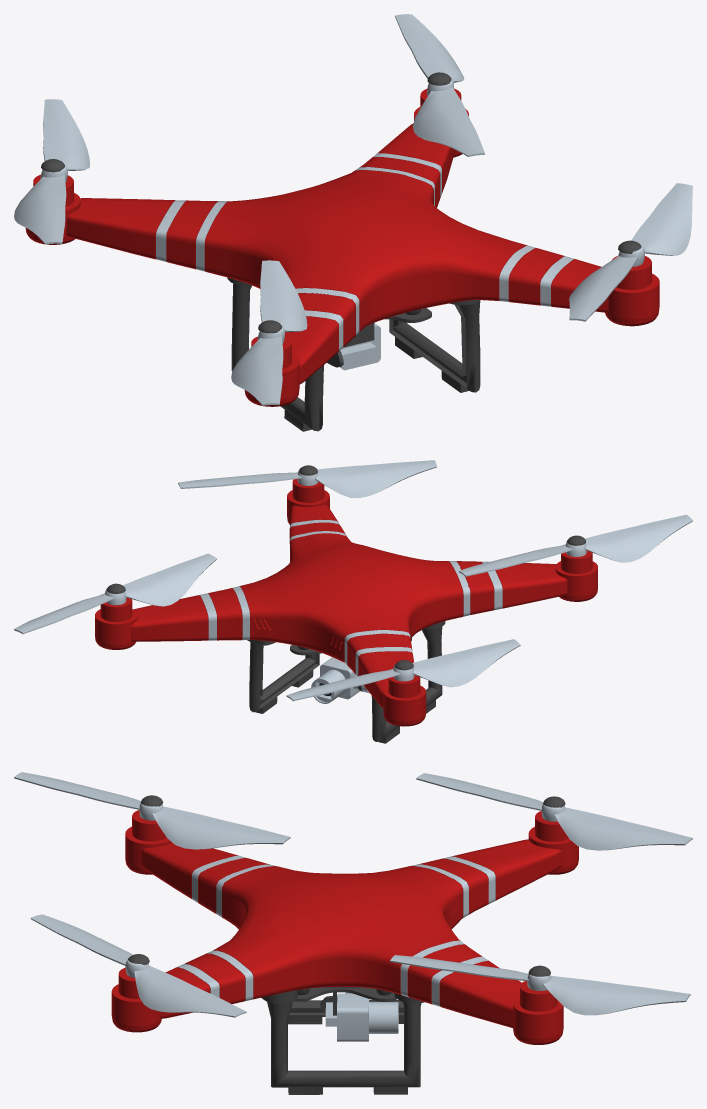
File: 无人机.glb
The picture shows the model from 3 angles, top to bottom: view 1: azimuth 30°, elevation 25°; view 2: azimuth 150°, elevation 25°; view 3: azimuth 270°, elevation 25°; orthographic projection. The views are drawn at different scales.
Visible parts, largest first — view 1: Obj3d66-545028-1-363.1, Obj3d66-545028-13-405.4, Obj3d66-545028-9-431.2, Obj3d66-545028-4-410.3, Obj3d66-545028-4-412.5; view 2: Obj3d66-545028-1-363.1, Obj3d66-545028-9-431.2, Obj3d66-545028-4-410.3, Obj3d66-545028-4-412.5, Obj3d66-545028-13-405.4; view 3: Obj3d66-545028-1-363.1, Obj3d66-545028-13-405.4, Obj3d66-545028-4-412.5, Obj3d66-545028-4-410.3, Obj3d66-545028-9-431.2.
Boxes of the visible parts, <box> form: Obj3d66-545028-1-363.1: <box>25,72,659,431</box>; Obj3d66-545028-13-405.4: <box>395,14,484,156</box>; Obj3d66-545028-9-431.2: <box>569,183,692,321</box>; Obj3d66-545028-4-410.3: <box>231,260,307,405</box>; Obj3d66-545028-4-412.5: <box>14,99,89,244</box>; Obj3d66-545028-1-363.1: <box>95,465,597,743</box>; Obj3d66-545028-9-431.2: <box>178,460,436,497</box>; Obj3d66-545028-4-410.3: <box>459,514,692,576</box>; Obj3d66-545028-4-412.5: <box>286,639,520,701</box>; Obj3d66-545028-13-405.4: <box>14,553,216,634</box>; Obj3d66-545028-1-363.1: <box>111,795,578,1094</box>; Obj3d66-545028-13-405.4: <box>390,955,690,1015</box>; Obj3d66-545028-4-412.5: <box>416,773,692,850</box>; Obj3d66-545028-4-410.3: <box>14,772,290,849</box>; Obj3d66-545028-9-431.2: <box>30,914,246,1017</box>.
Bounding box in the file's own units: 1.63 × 0.5434 × 1.92.
8 materials, 8 textured.
